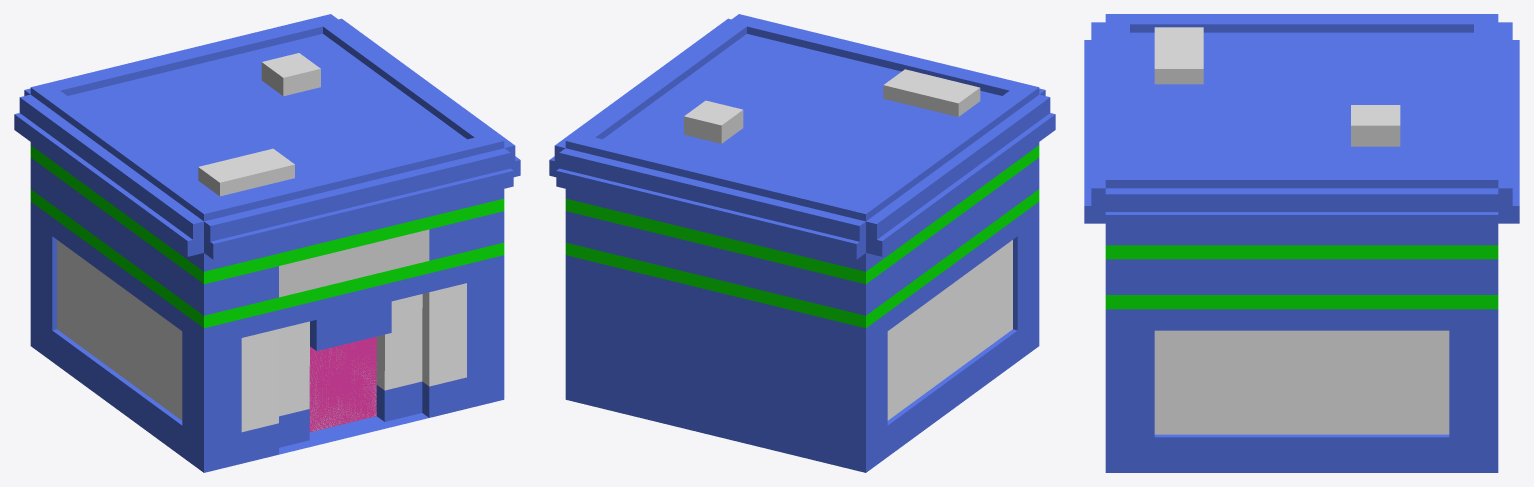
Rendered from shop.fbx.
3 renders of one model, left to right at view 1: azimuth 30°, elevation 25°; view 2: azimuth 150°, elevation 25°; view 3: azimuth 270°, elevation 25°, orthographic. The views are drawn at different scales.
Parts seen in each view (by area): view 1: ShopMesh_LOD0; view 2: ShopMesh_LOD0; view 3: ShopMesh_LOD0.
Part boxes in pixels (x1,y1,x2,y2): ShopMesh_LOD0: [14, 14, 520, 472]; ShopMesh_LOD0: [549, 14, 1055, 472]; ShopMesh_LOD0: [1084, 14, 1519, 472].
Size of what is drawn, in the model's own units: 1108 by 859 by 1108.
